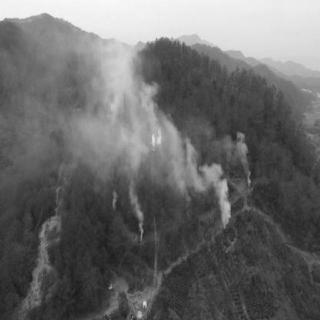Fire: (144, 124, 171, 152)
Smoke: (232, 127, 254, 189)
